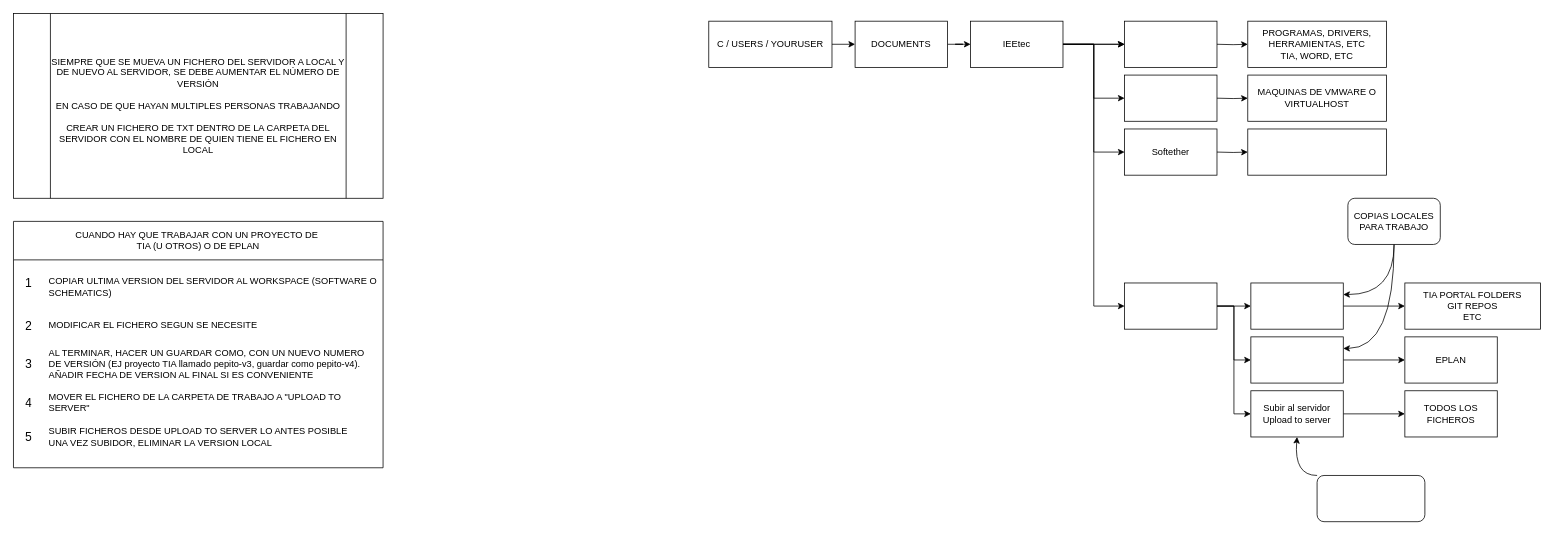
This 1554x535 diagram has some shape labels left out. The shapes that lost their labels are listed below. From the top down, each one's centre as x and y in pixels, then its label:
At point (1170, 43): "Instaladores".
At point (1170, 97): "Maquinas Virtuales".
At point (1316, 151): "CABLE PUBLICA PC/USUARIO CABLE PRIVADA PC/USUARIO".
At point (1170, 305): "Workspace".
At point (1296, 305): "Software".
At point (1296, 359): "Electrical Schematics Esquemas electricos".
At point (1370, 498): "VERSIONES NUEVAS PARA SUBIR AL SERVIDOR".
